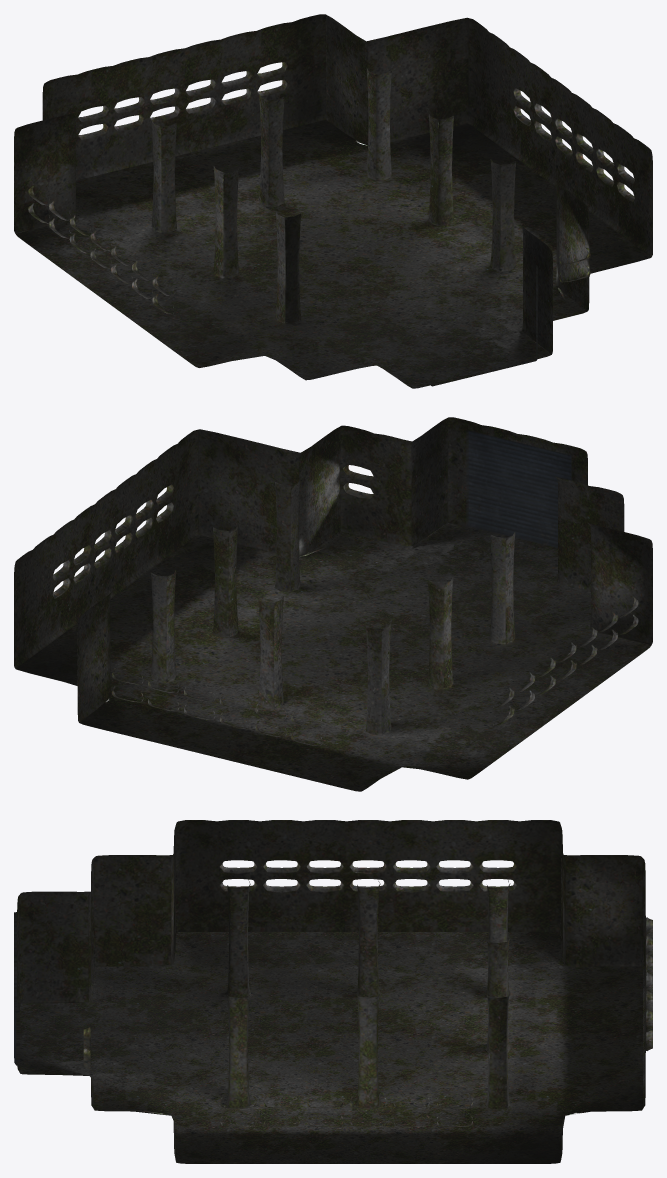
File: parking_garage.glb
The picture shows the model from 3 angles, top to bottom: view 1: azimuth 30°, elevation 25°; view 2: azimuth 150°, elevation 25°; view 3: azimuth 270°, elevation 25°; orthographic projection. The views are drawn at different scales.
Parts seen in each view (by area): view 1: Parking Garage; view 2: Parking Garage; view 3: Parking Garage.
Part boxes in pixels (x1,y1,x2,y2): Parking Garage: (14, 14, 652, 388); Parking Garage: (14, 417, 652, 791); Parking Garage: (14, 820, 652, 1163).
Bounding box in the file's own units: 16.83 × 3.76 × 18.9.
1 material, 1 textured.
